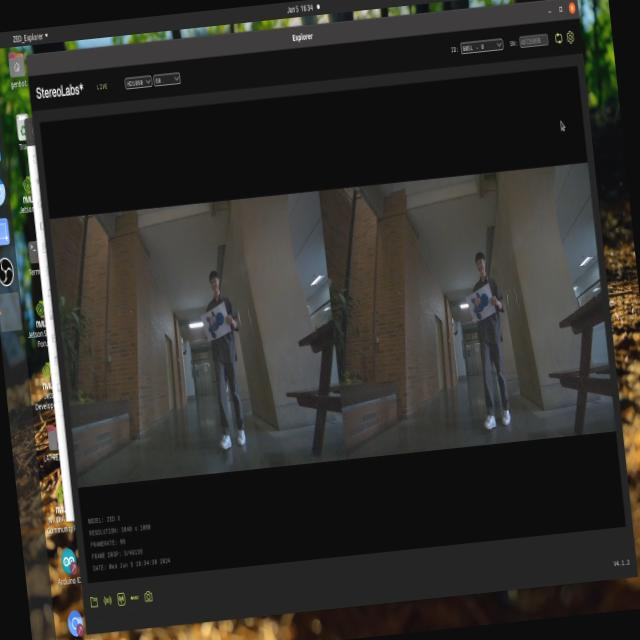blue: (469, 282, 494, 317), (211, 312, 232, 337)
